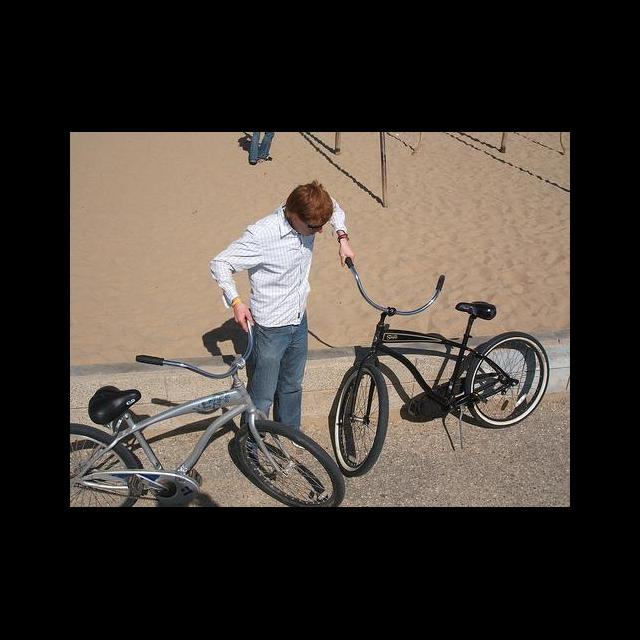NO-Hardhat: (284, 183, 334, 223)
NO-Mask: (286, 210, 315, 238)
Person: (211, 181, 354, 448), (248, 133, 275, 165)
Safety Vest: (252, 218, 314, 327)
